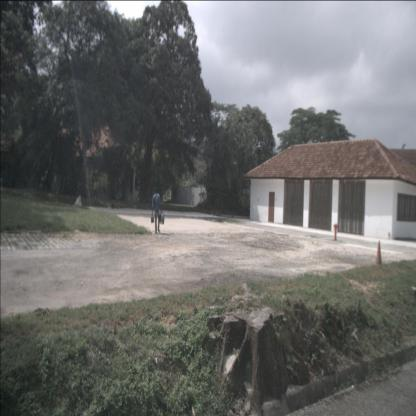cone: (375, 240, 382, 267)
